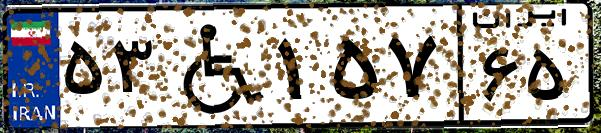1: (270, 28, 330, 110)
3: (110, 28, 158, 98)
5: (330, 28, 385, 110), (57, 26, 110, 100), (525, 38, 570, 115)
6: (475, 38, 525, 113)
7: (385, 28, 445, 110)
ژ (معلولین و جانبازان): (158, 12, 270, 120)
